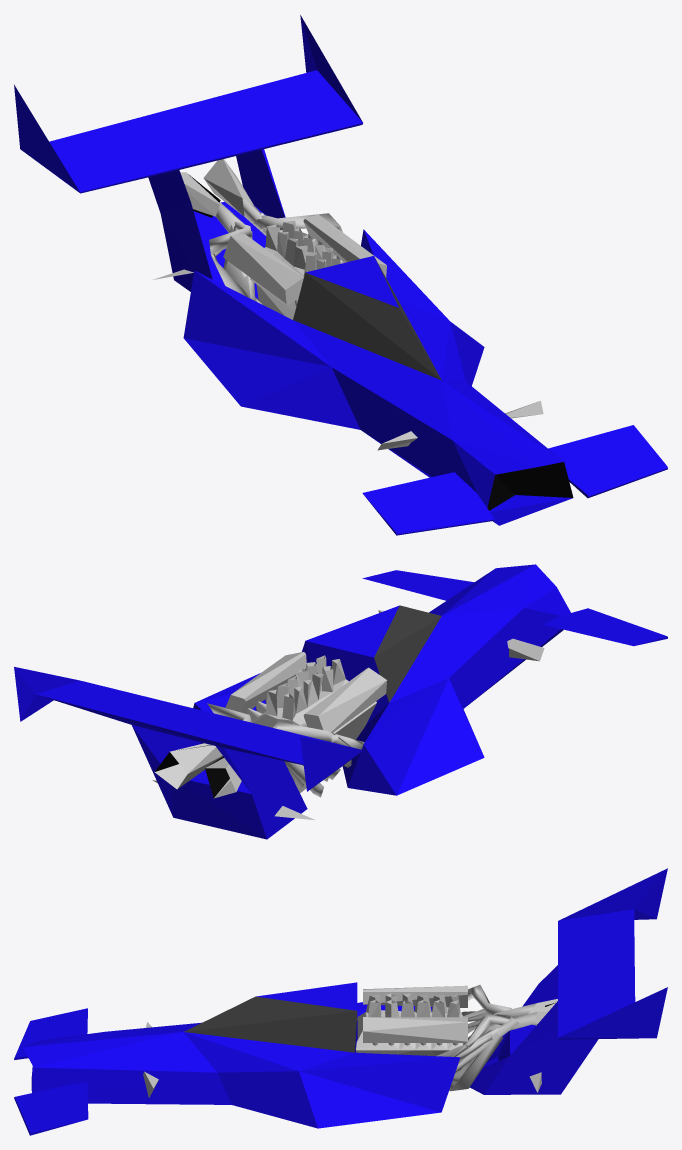
The model's file is f1-70s_body.obj.
3 renders of one model, top to bottom at view 1: azimuth 30°, elevation 25°; view 2: azimuth 150°, elevation 25°; view 3: azimuth 270°, elevation 25°, orthographic. The views are drawn at different scales.
Parts seen in each view (by area): view 1: Plane.001; view 2: Plane.001; view 3: Plane.001.
Part boxes in pixels (x1=…): Plane.001: x1=14, y1=15, x2=667, y2=535; Plane.001: x1=14, y1=564, x2=667, y2=839; Plane.001: x1=14, y1=868, x2=667, y2=1135.
Bounding box in the file's own units: 7.82 × 5.08 × 18.17.
